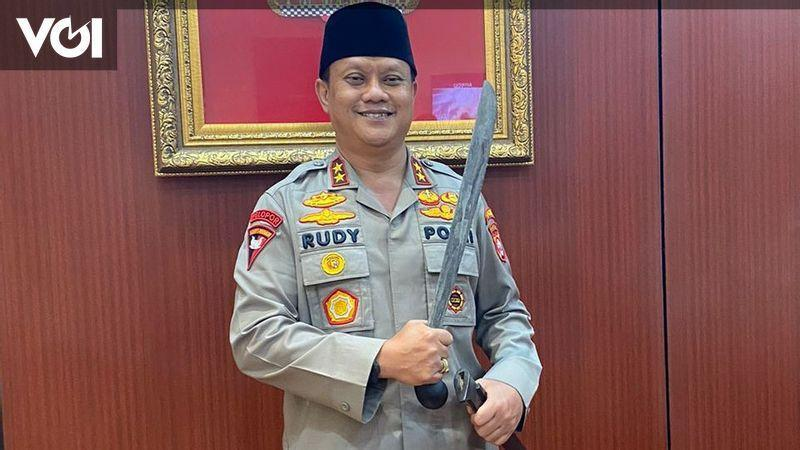facao: (416, 81, 498, 402)
